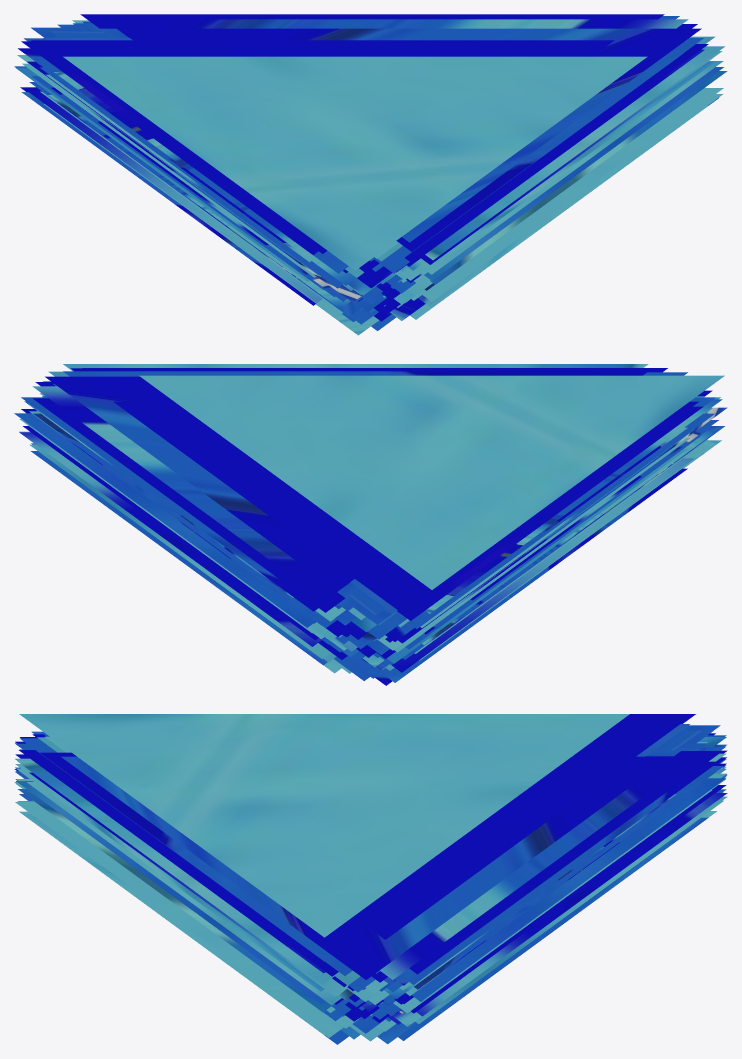
Rendered from RubberToy.glb.
The picture shows the model from 3 angles, top to bottom: view 1: azimuth 30°, elevation 25°; view 2: azimuth 150°, elevation 25°; view 3: azimuth 270°, elevation 25°; orthographic projection. The views are drawn at different scales.
Size of the model in its own units: 18.13 by 2.15 by 20.24.
1 material, 1 textured.
